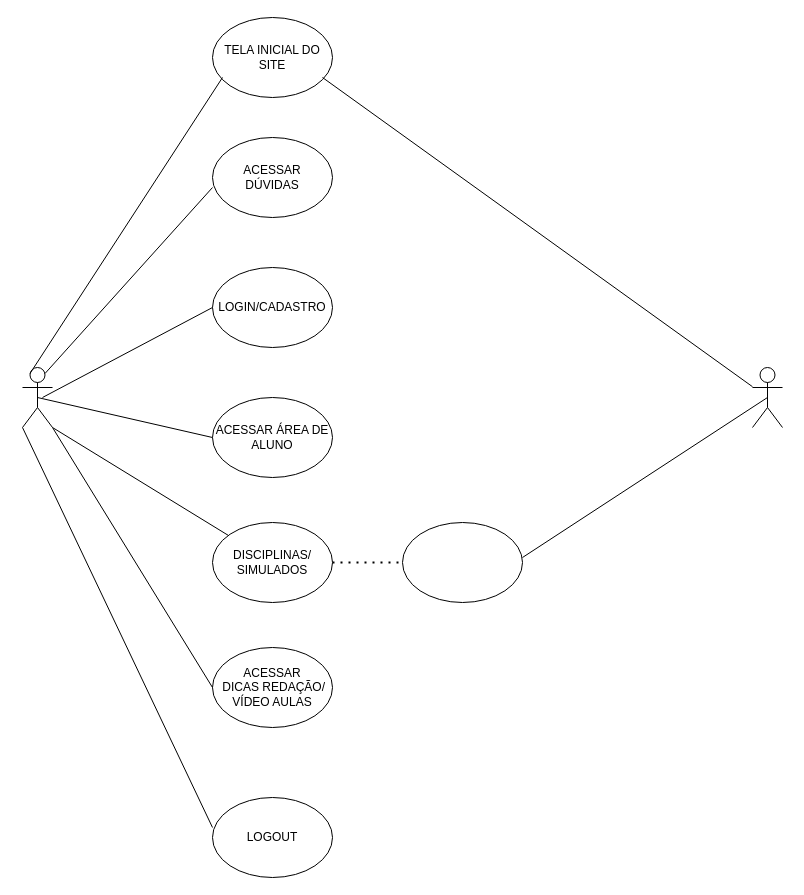
This 804x895 diagram has some shape labels left out. The centre of each missing label's shape, as x and y in pixels:
"ADMIN" belongs at [767,397].
"ALUNO" belongs at [37,397].
"GERAR RESULTADO SIMULADO" belongs at [462,562].
